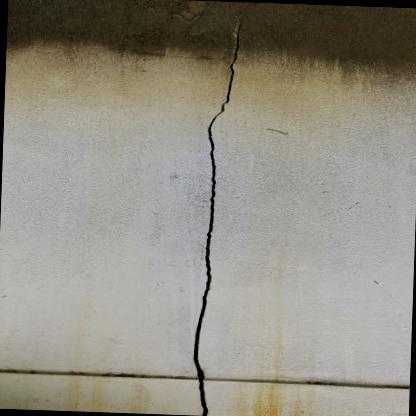crack: (192, 21, 240, 416)
